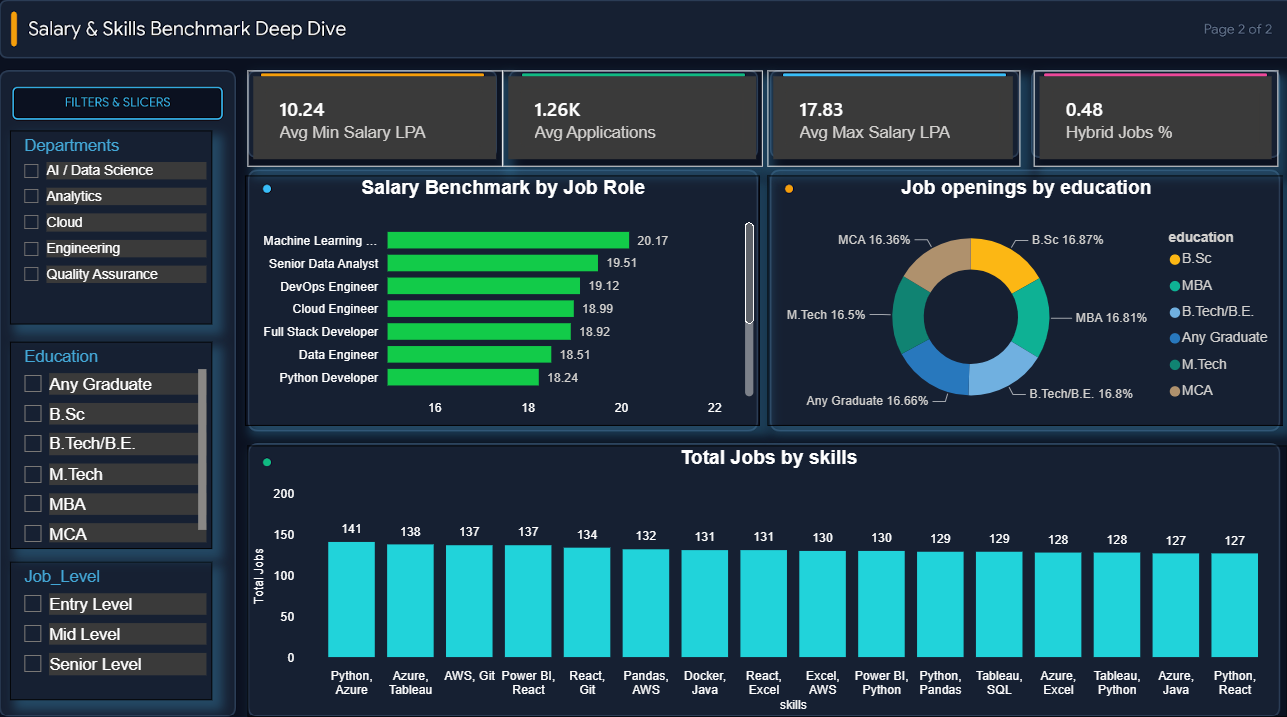

This screenshot's page, from the dashboard's own definition file:
{"tool":"powerbi","page":{"name":"Page 2","canvas":[1280,720],"ordinal":1},"visuals":[{"type":"slicer","fields":{"Values":["job data.department"]},"box":[23.8,137.5,195,187.5],"z":0},{"type":"slicer","fields":{"Values":["job data.job_level"]},"box":[23.8,553.8,195,133.8],"z":1000},{"type":"slicer","fields":{"Values":["job data.education"]},"box":[23.8,341.2,195,200],"z":2000},{"type":"cardVisual","fields":{"Data":["job data.Avg Min Salary"]},"box":[253.4,79.6,246.2,92.5],"z":3000},{"type":"cardVisual","fields":{"Data":["job data.Avg Applications"]},"box":[499.5,79.6,251.2,92.5],"z":4000},{"type":"cardVisual","fields":{"Data":["job data.Avg Max Salary"]},"box":[755.2,79.6,243.8,92.5],"z":5000},{"type":"cardVisual","fields":{"Data":["job data.Hybrid Jobs %"]},"box":[1012.2,79.6,236.2,92.5],"z":6000},{"type":"clusteredBarChart","title":"Salary Benchmark by Job Role","fields":{"Category":["job data.job_title"],"Y":["Avg(job data.salary_max_lpa)"]},"box":[250.9,181,497.1,241.3],"z":7000},{"type":"clusteredColumnChart","fields":{"Category":["job data.skills"],"Y":["job data.Total Jobs"]},"box":[253.4,441.6,1005,263],"z":8000},{"type":"donutChart","title":"Job openings by education","fields":{"Category":["job data.education"],"Y":["CountNonNull(job data.salary_max_lpa)"]},"box":[755.2,181,498.3,241.3],"z":9000}]}

Visuals, with their boxes in screenshot pixels (x1, y1, x2, y2), scaled from the page's 1280x720 canvas onto the 1287x717 screenshot:
slicer - job data.department: 24/137/220/324
slicer - job data.job_level: 24/551/220/685
slicer - job data.education: 24/340/220/539
cardVisual - job data.Avg Min Salary: 255/79/502/171
cardVisual - job data.Avg Applications: 502/79/755/171
cardVisual - job data.Avg Max Salary: 759/79/1004/171
cardVisual - job data.Hybrid Jobs %: 1018/79/1255/171
"Salary Benchmark by Job Role" clusteredBarChart: 252/180/752/421
clusteredColumnChart - job data.skills x job data.Total Jobs: 255/440/1265/702
"Job openings by education" donutChart: 759/180/1260/421
